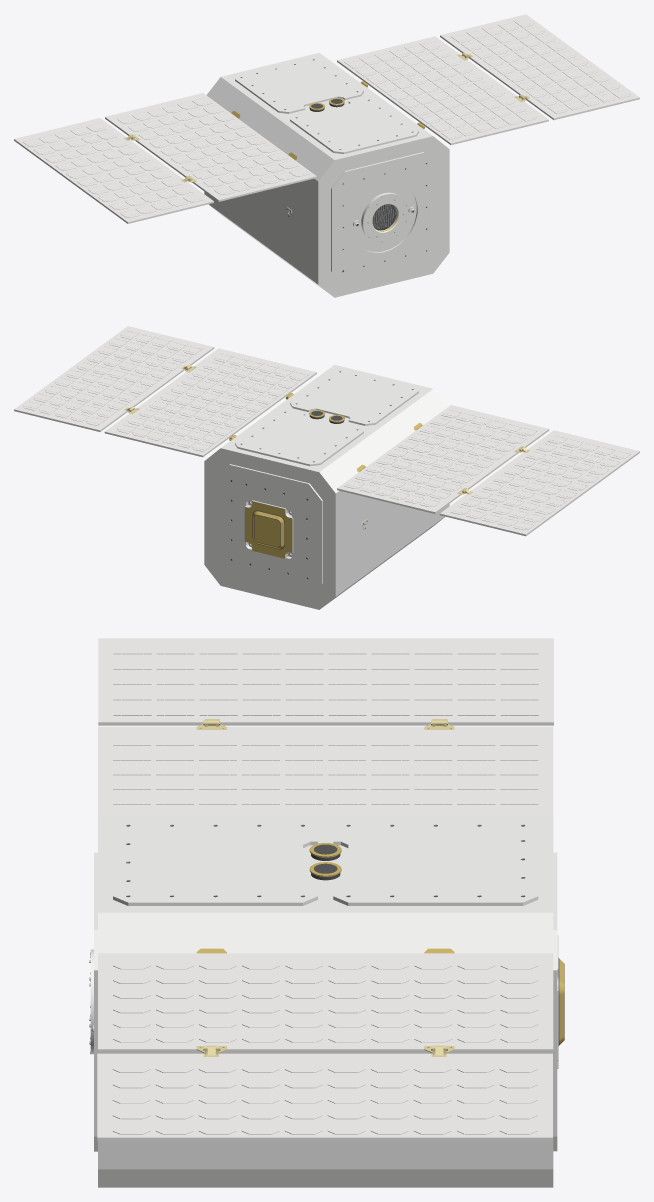
File: sputnik.glb
3 views of the same model, one above another, from view 1: azimuth 30°, elevation 25°; view 2: azimuth 150°, elevation 25°; view 3: azimuth 270°, elevation 25° (orthographic). The views are drawn at different scales.
Parts seen in each view (by area): view 1: Body12, Body1, Body11, Body31, Body3, DIFFUSER; view 2: Body12, Body1, Body11, Body31, Body3, Body23_1; view 3: Body12, Body1, Body11, Body3, Body31, Body23_1.
Part boxes in pixels (x1,y1,x2,y2): Body12: (204,53,449,297); Body1: (337,36,548,144); Body11: (105,93,316,201); Body31: (14,118,213,223); Body3: (440,14,639,119); DIFFUSER: (361,192,408,242); Body12: (204,365,449,609); Body1: (104,348,316,457); Body11: (337,405,549,513); Body31: (439,430,639,536); Body3: (14,326,214,431); Body23_1: (244,500,293,559); Body12: (91,816,557,1187); Body1: (98,953,553,1052); Body11: (98,726,553,816); Body3: (97,1053,552,1141); Body31: (98,638,553,725); Body23_1: (557,935,564,1068).
Size of the model in its own units: 77.85 by 21.99 by 31.33.
